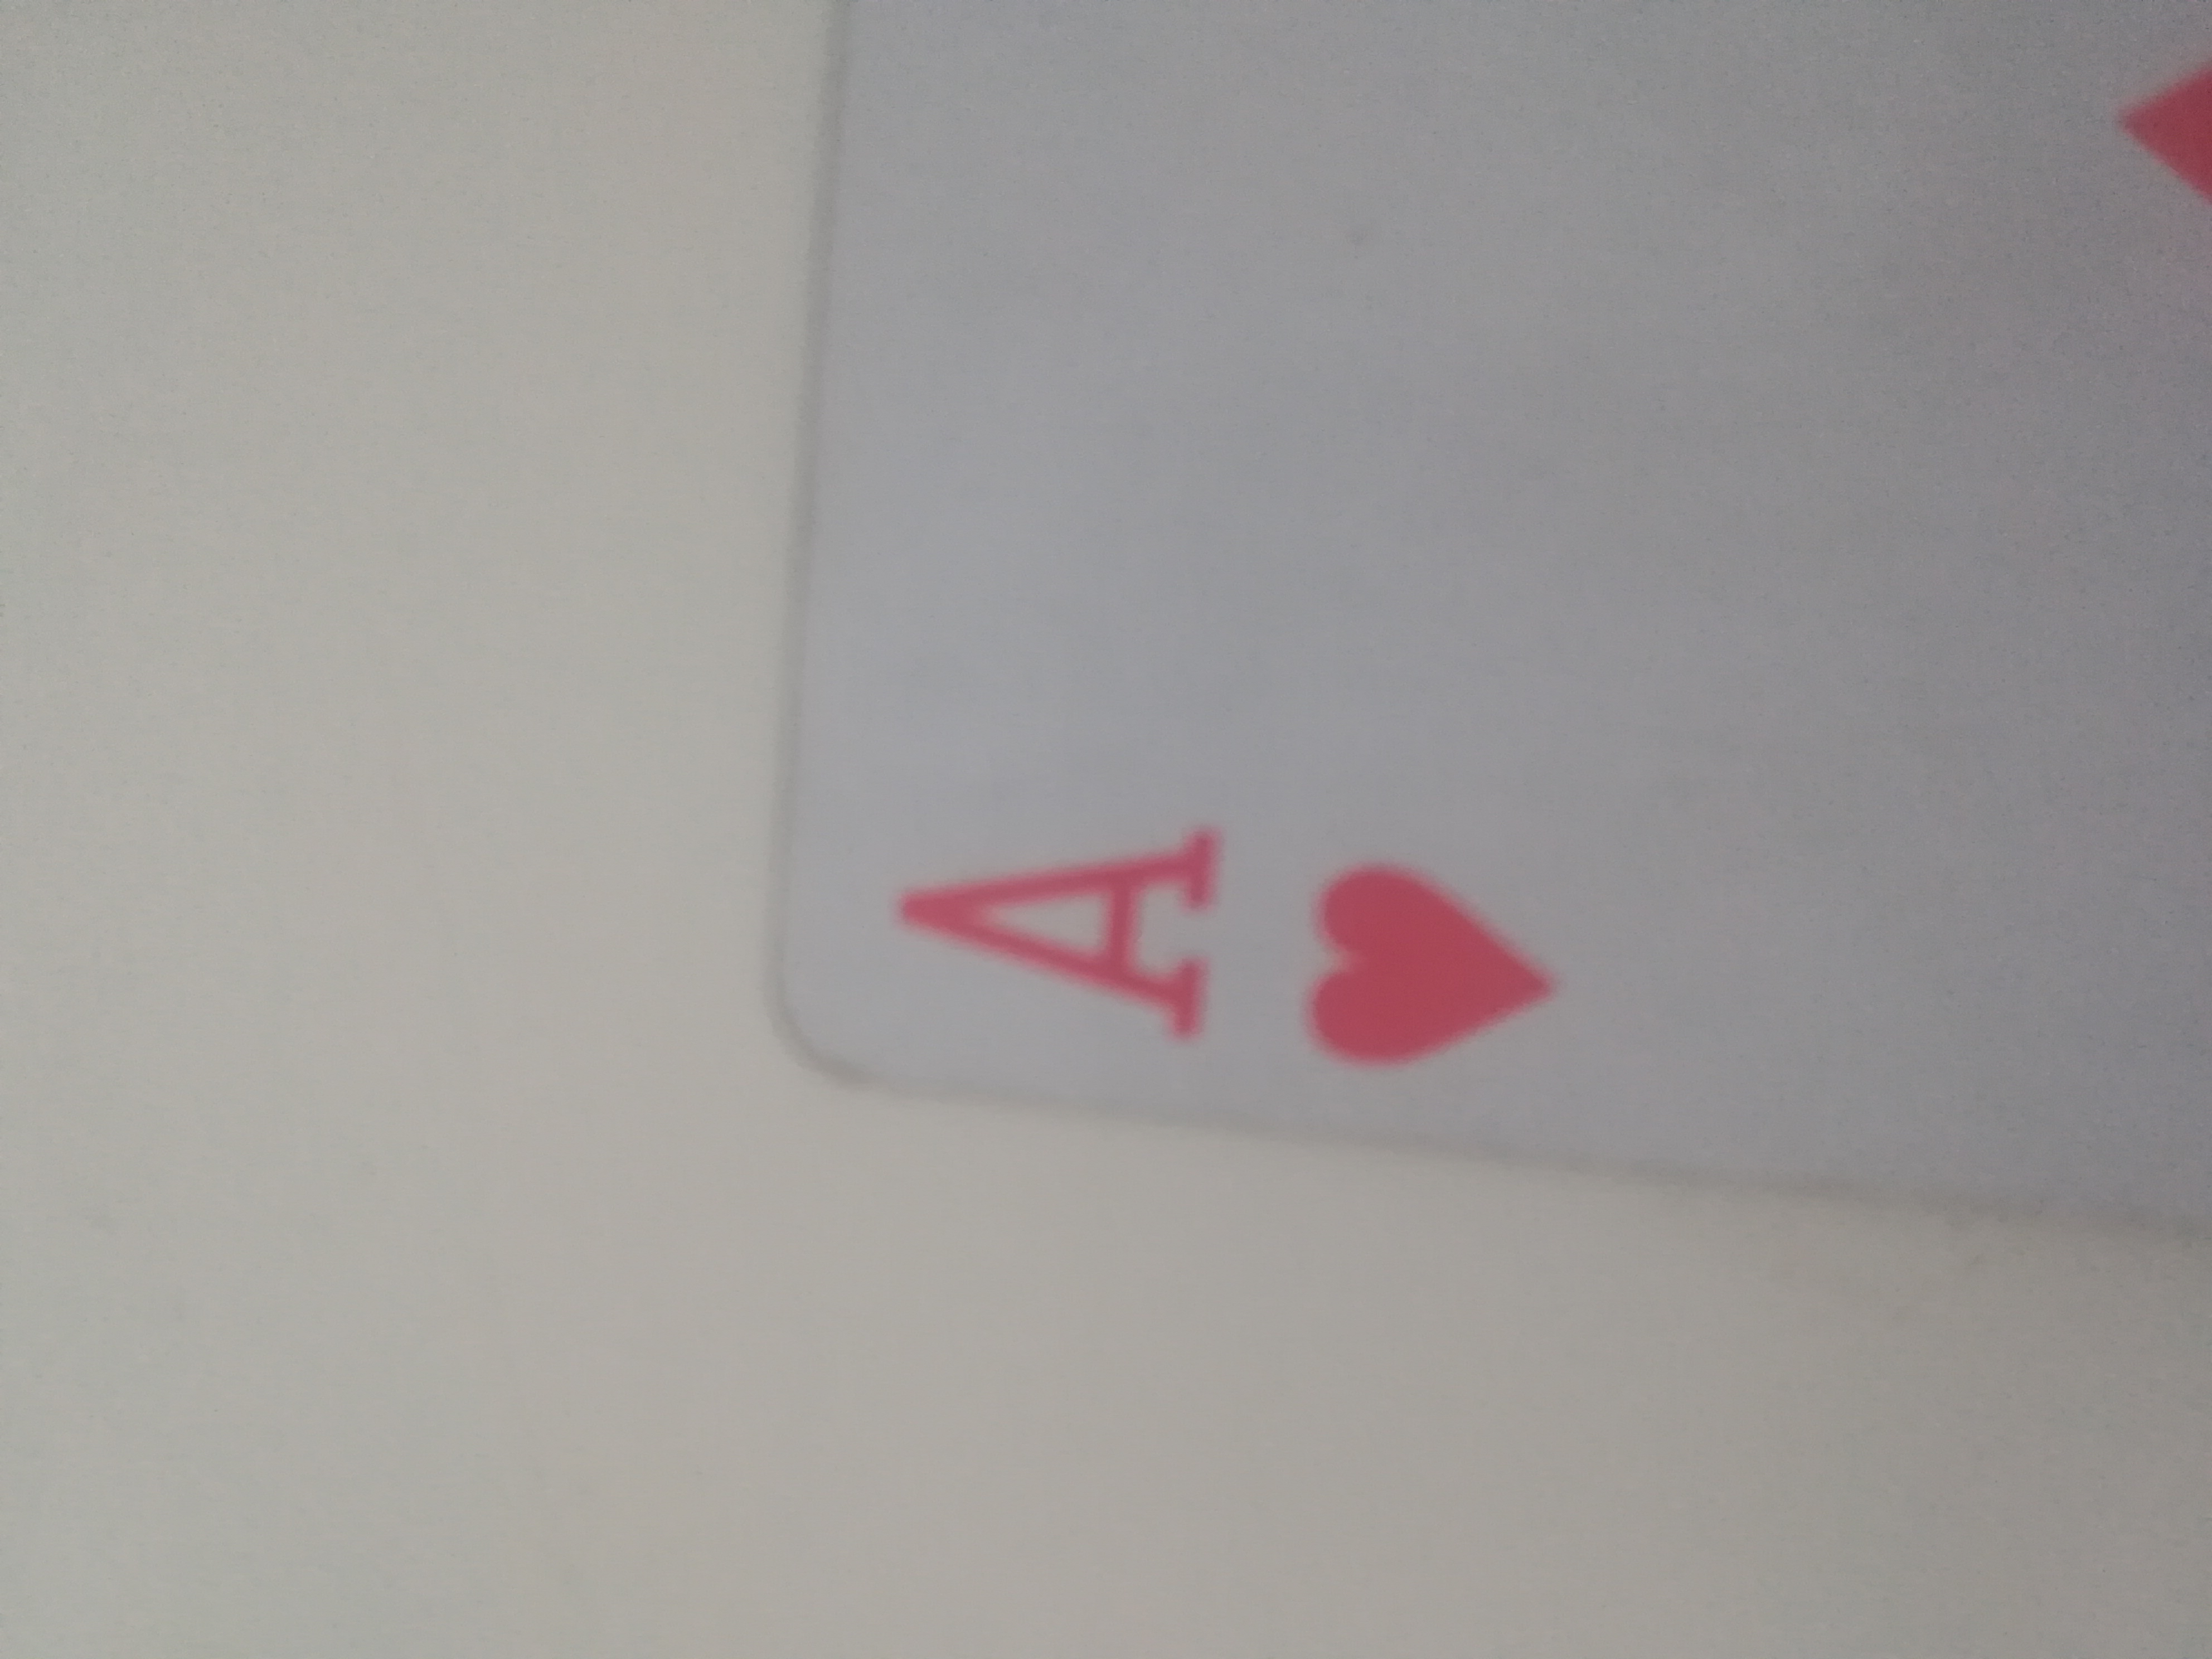AH: (798, 10, 2212, 1237)
